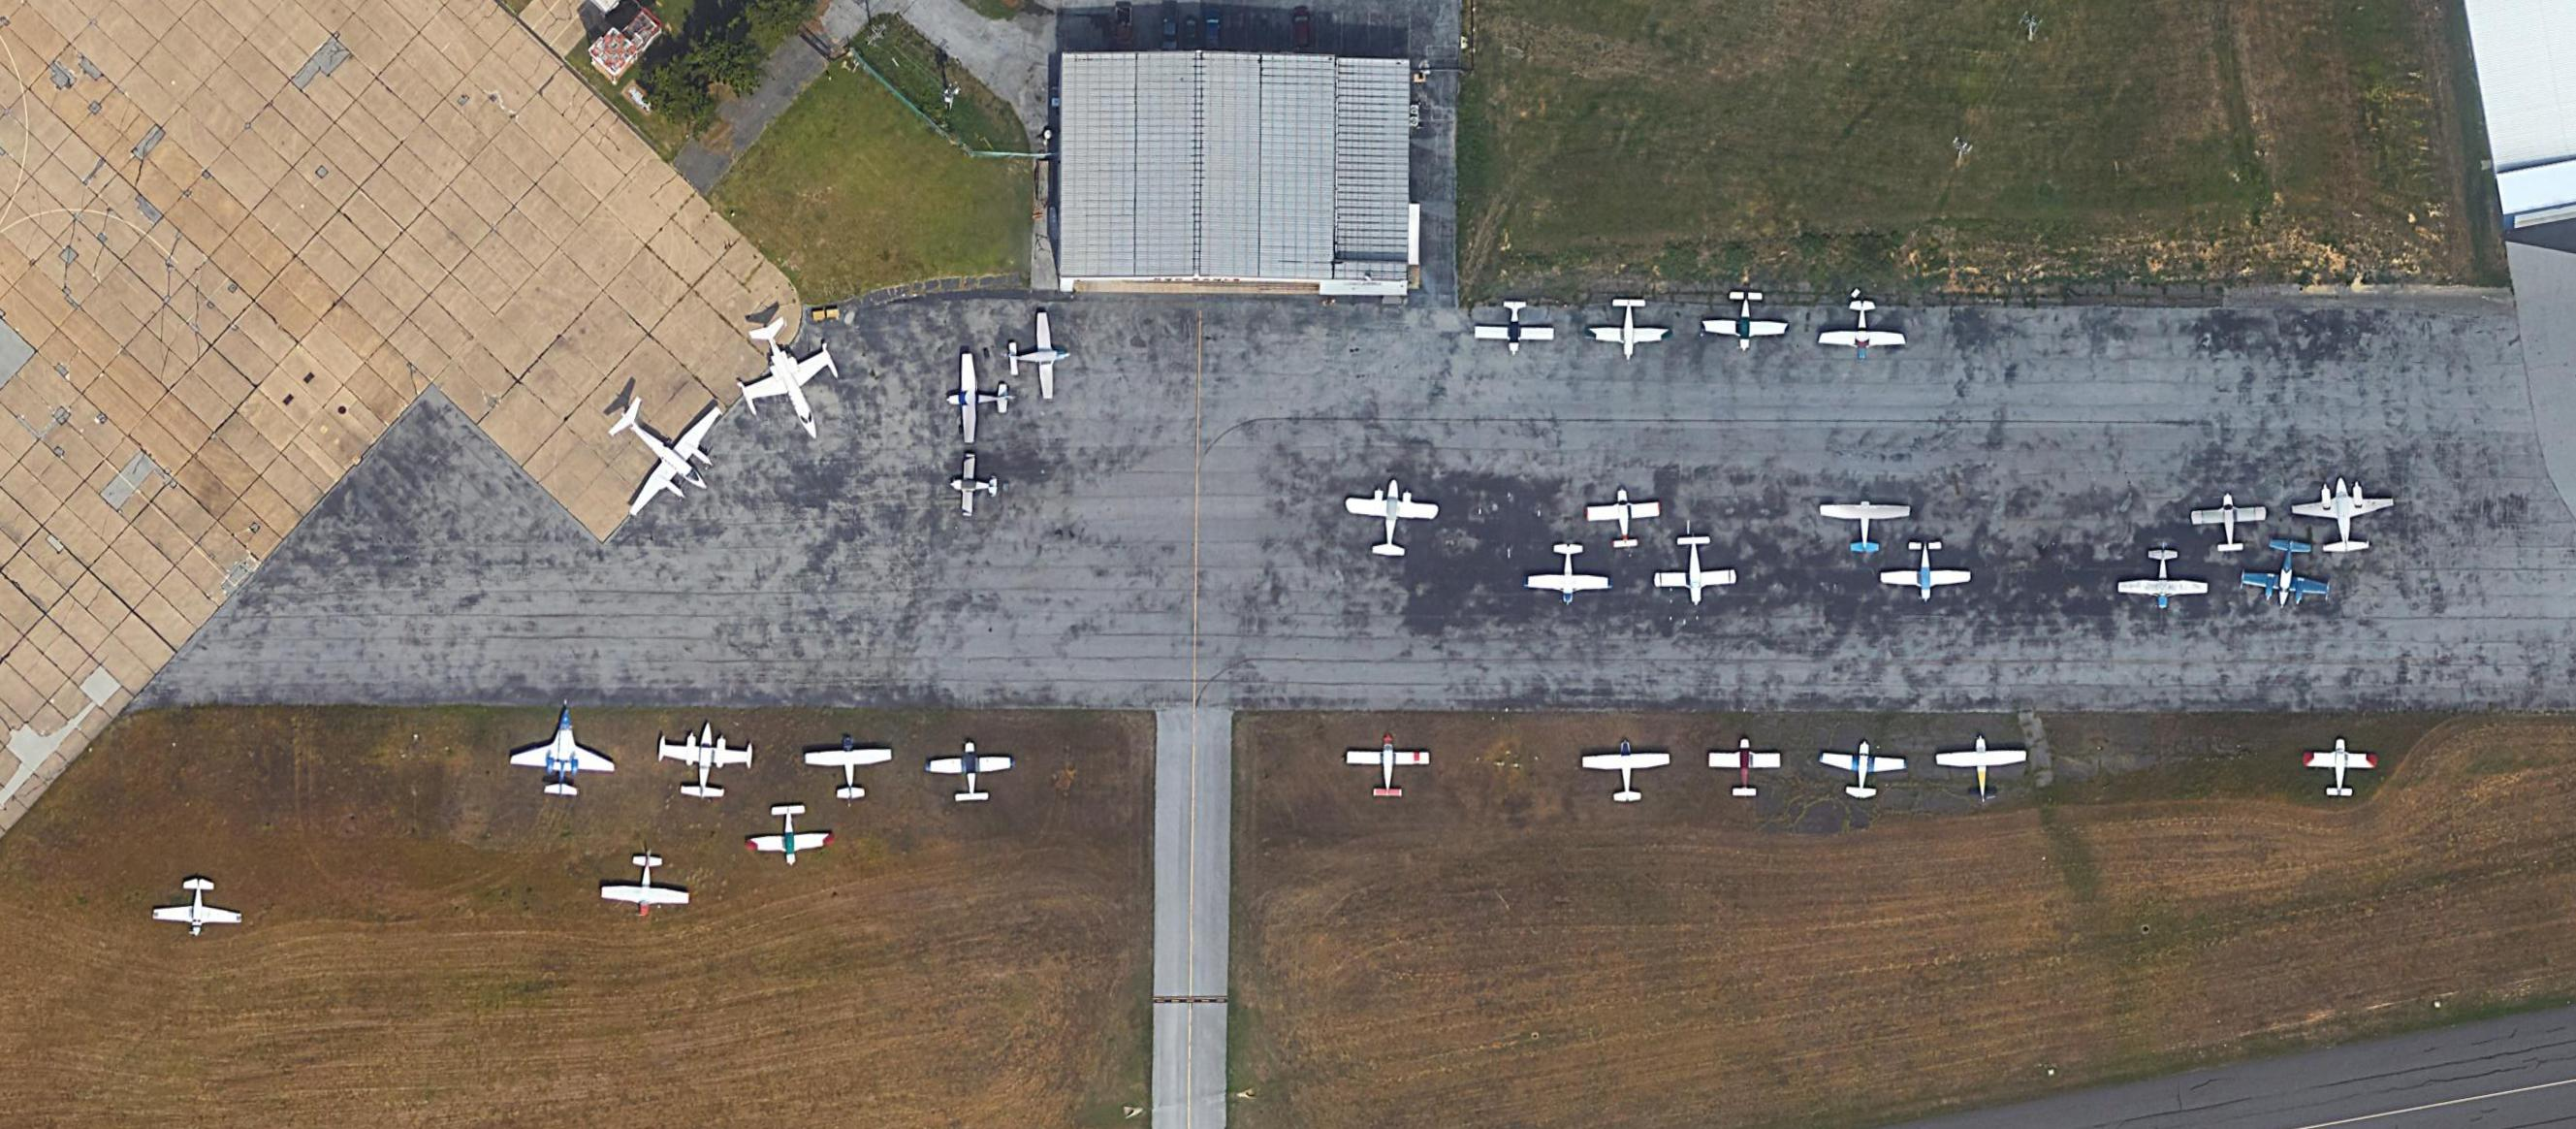plane: (573, 363, 746, 541), (723, 304, 861, 460), (503, 694, 623, 805), (652, 713, 757, 804), (1342, 472, 1442, 562), (2288, 472, 2395, 552), (2236, 532, 2336, 613), (946, 352, 1019, 445), (1815, 735, 1911, 805), (805, 733, 894, 807), (600, 846, 692, 917), (1815, 294, 1907, 363), (1651, 534, 1738, 606), (151, 874, 246, 940), (1935, 735, 2027, 802), (744, 802, 838, 868), (1582, 738, 1674, 804), (923, 740, 1015, 805), (1878, 539, 1973, 601), (1007, 311, 1073, 401), (2116, 546, 2208, 610), (1699, 289, 1791, 353), (1523, 541, 1613, 605), (1345, 733, 1429, 799), (1584, 297, 1674, 358), (1584, 483, 1663, 552), (1820, 496, 1911, 554), (2300, 735, 2379, 800), (2192, 491, 2267, 555), (1707, 735, 1782, 799), (1475, 301, 1556, 358), (950, 450, 999, 519)
